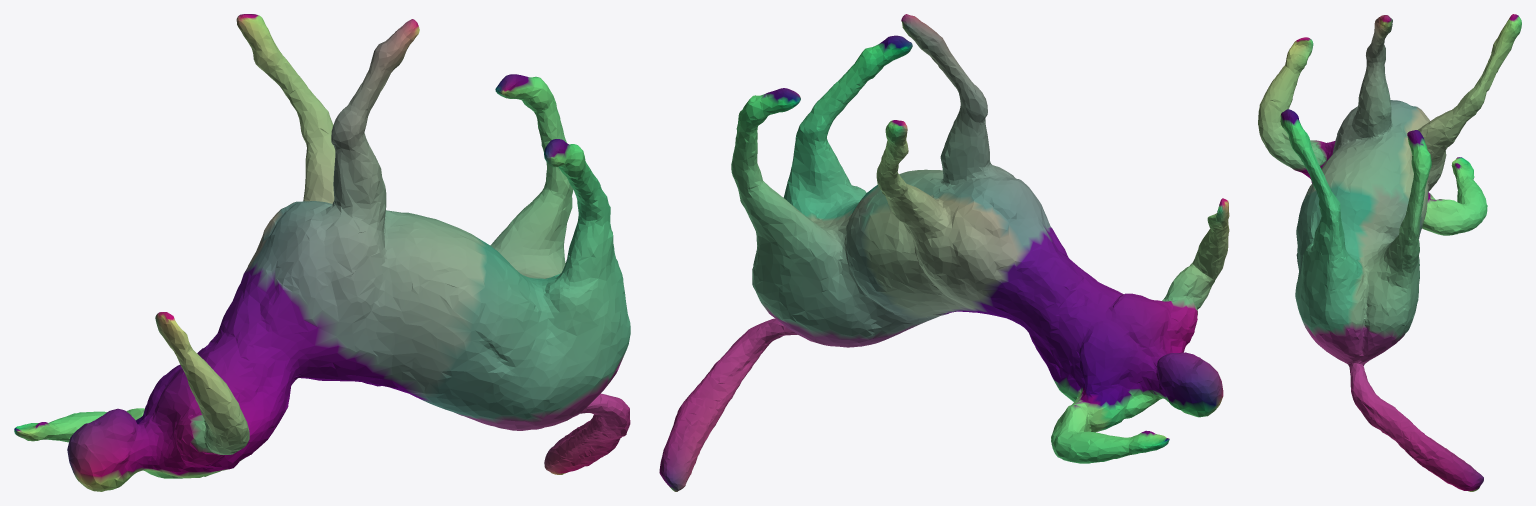
File: centaur-14.off.obj
The picture shows the model from 3 angles, left to right: view 1: azimuth 30°, elevation 25°; view 2: azimuth 150°, elevation 25°; view 3: azimuth 270°, elevation 25°; orthographic projection. The views are drawn at different scales.
Size of the model in its own units: 1.4 by 1.27 by 0.7553.
